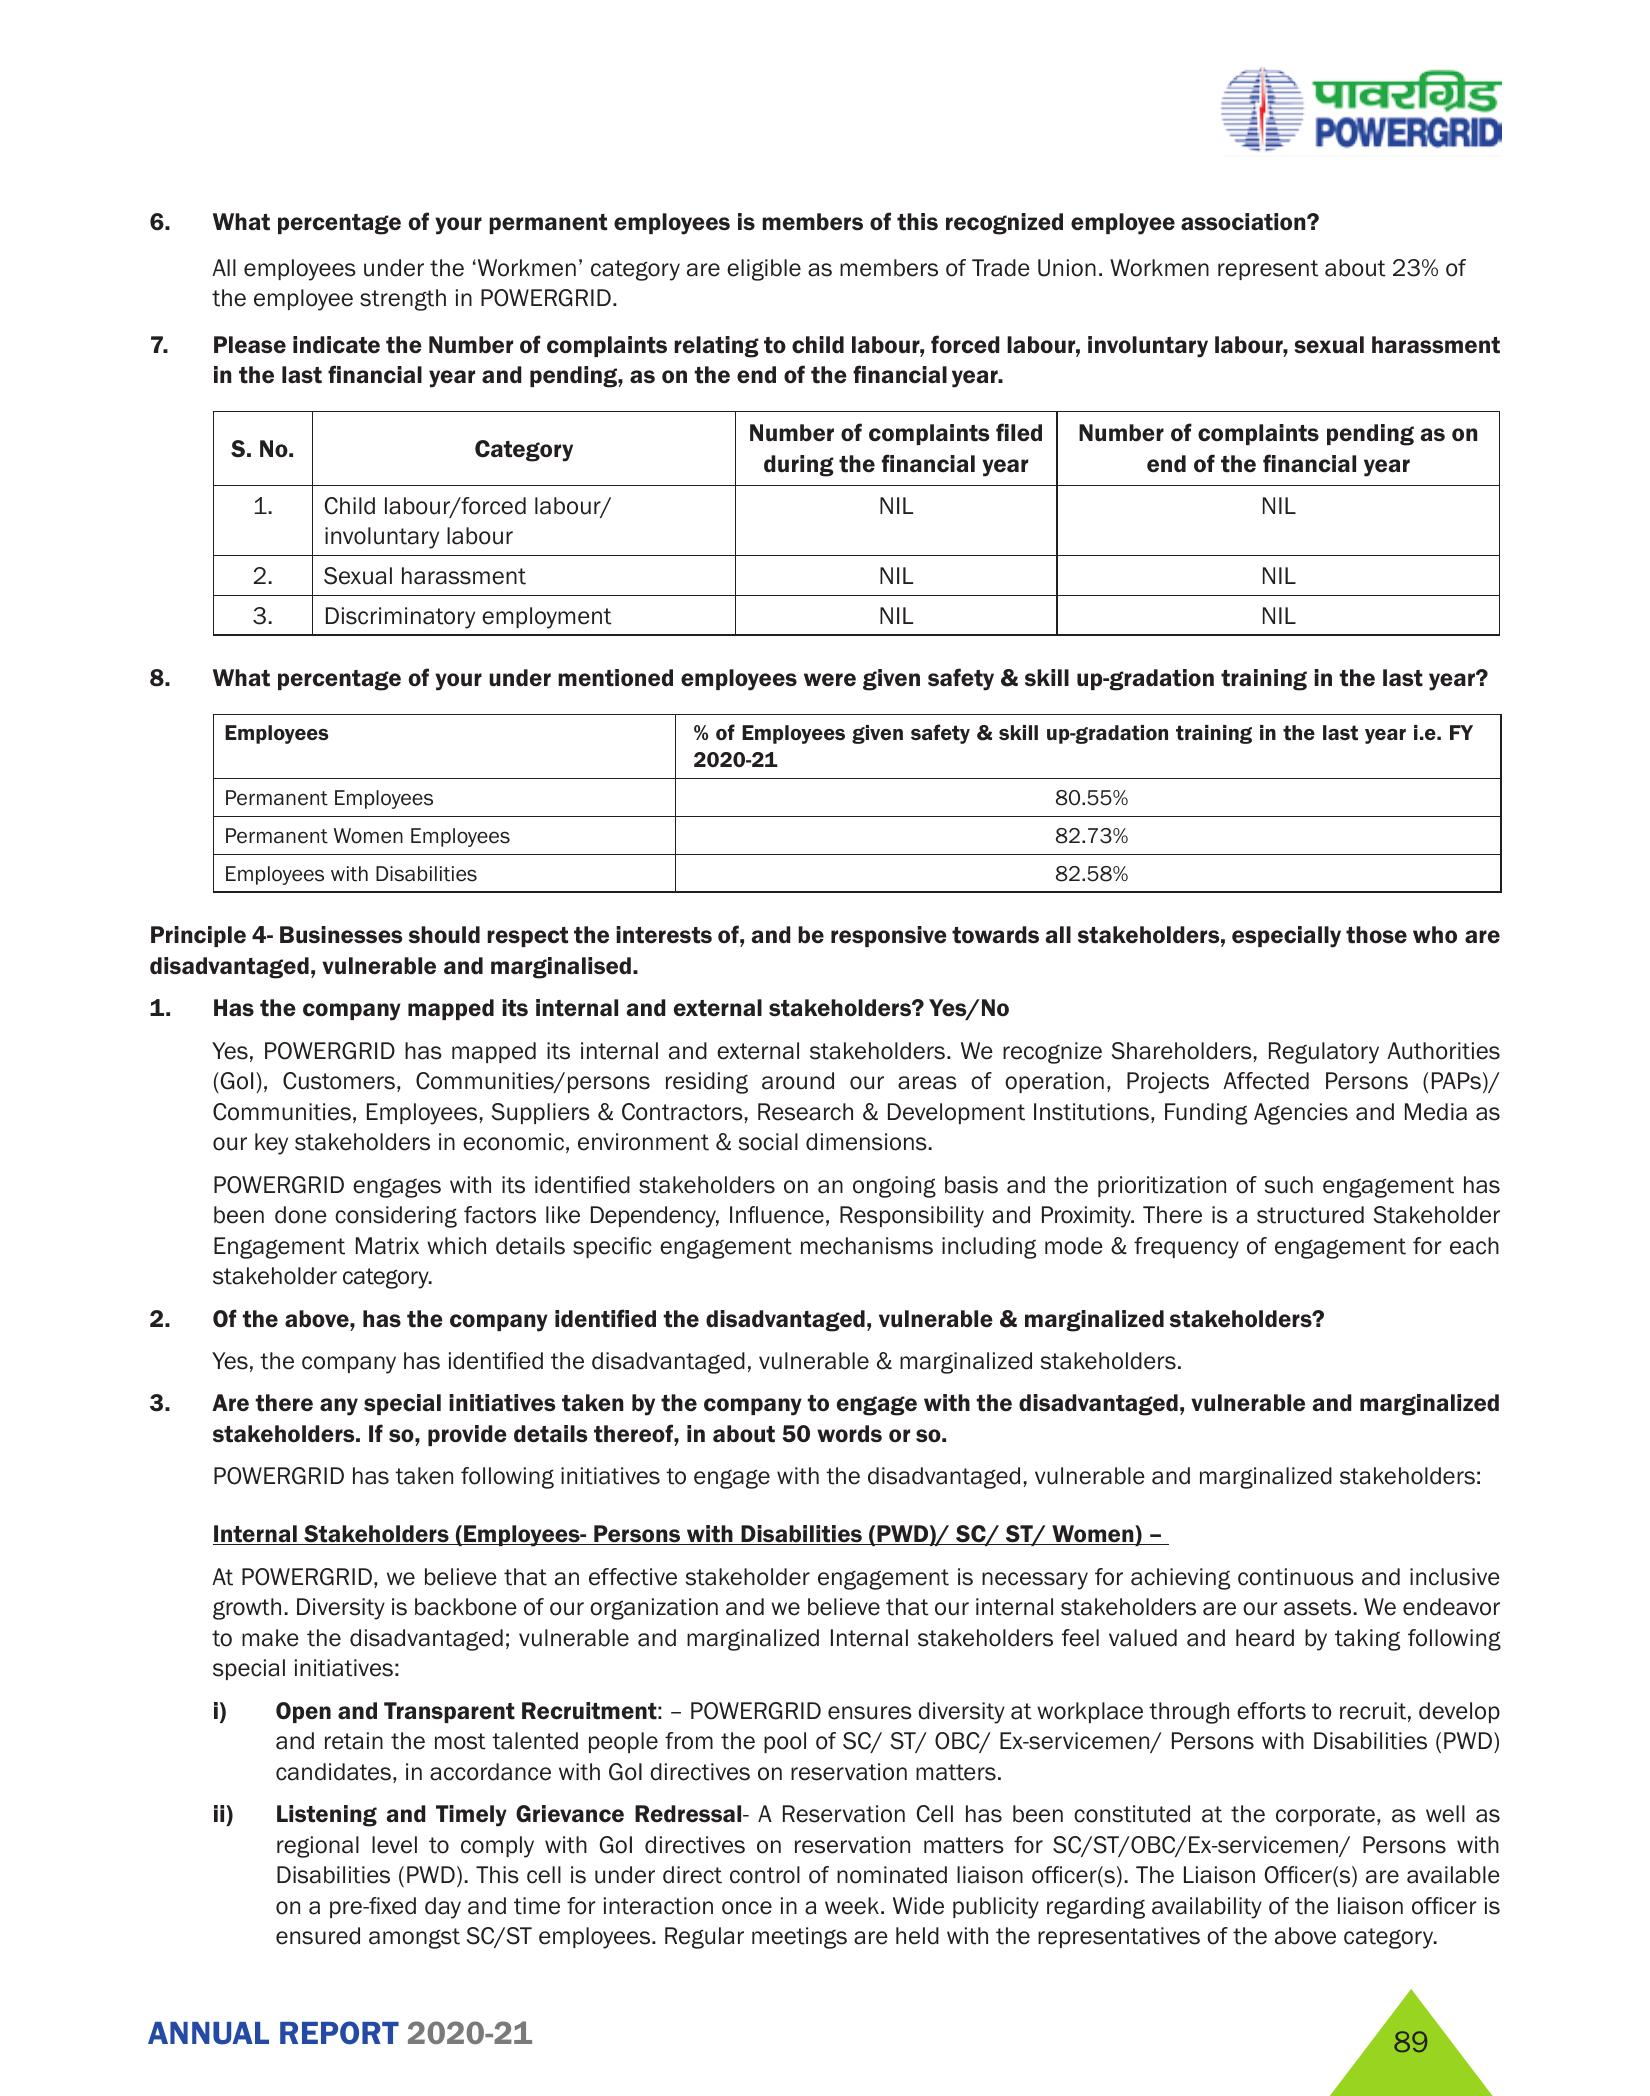Footer: (0, 1953, 1650, 2096)
Header: (0, 0, 1650, 175)
Table: (94, 400, 1524, 650), (139, 703, 1533, 869)
